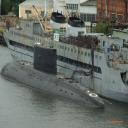submarine: (1, 43, 108, 109)
